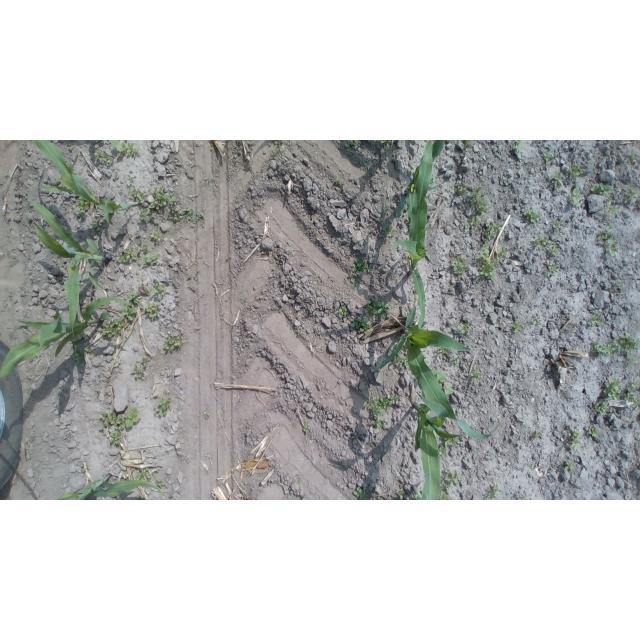Maize: (27, 195, 119, 345), (3, 292, 138, 384), (369, 308, 472, 426), (27, 141, 130, 229), (403, 397, 485, 499), (390, 148, 434, 331), (403, 142, 450, 221), (52, 466, 157, 500)
Weeds: (96, 406, 145, 450), (477, 222, 506, 281), (455, 181, 491, 218), (95, 141, 142, 164), (613, 331, 640, 366), (344, 257, 373, 288), (167, 207, 208, 227), (151, 185, 182, 207), (124, 292, 145, 323), (98, 319, 126, 342), (71, 339, 94, 365), (590, 398, 612, 425), (434, 370, 454, 399), (363, 297, 389, 319), (129, 183, 152, 207), (565, 428, 584, 457), (129, 356, 151, 381), (621, 380, 640, 408), (599, 231, 618, 258), (153, 395, 174, 419), (366, 399, 382, 430), (603, 376, 622, 402), (586, 181, 614, 198), (445, 257, 467, 278), (150, 279, 170, 302), (138, 206, 161, 225), (593, 340, 614, 360), (161, 335, 183, 354), (116, 248, 137, 267), (443, 468, 462, 489), (74, 199, 95, 217), (350, 316, 371, 334), (90, 216, 112, 233), (145, 303, 164, 322), (378, 394, 399, 411), (570, 186, 585, 209), (140, 252, 161, 268), (350, 484, 371, 500), (136, 468, 155, 485), (434, 486, 456, 500), (559, 457, 577, 474), (380, 222, 397, 239), (530, 236, 550, 250), (626, 187, 640, 207), (524, 207, 541, 223), (568, 164, 584, 181), (433, 443, 449, 460), (483, 483, 500, 499), (549, 173, 565, 189), (529, 430, 548, 443), (603, 204, 616, 223), (455, 323, 470, 338), (391, 488, 409, 500), (335, 305, 349, 320), (539, 149, 553, 164), (149, 230, 165, 243), (545, 262, 561, 275), (586, 425, 600, 439), (395, 354, 408, 369), (546, 246, 560, 259), (444, 434, 458, 447), (588, 313, 601, 327), (437, 344, 452, 356), (551, 219, 564, 232), (523, 462, 537, 474), (134, 242, 148, 254), (238, 297, 252, 308), (469, 371, 483, 382), (515, 492, 534, 500), (511, 140, 522, 153), (272, 142, 283, 155), (302, 424, 315, 435), (381, 203, 392, 215), (529, 314, 541, 325), (510, 323, 523, 333), (203, 410, 214, 421), (613, 283, 624, 294), (156, 480, 168, 490), (453, 353, 462, 366), (332, 177, 342, 188), (373, 493, 388, 500), (127, 175, 135, 187), (296, 480, 304, 489), (497, 317, 505, 325)
